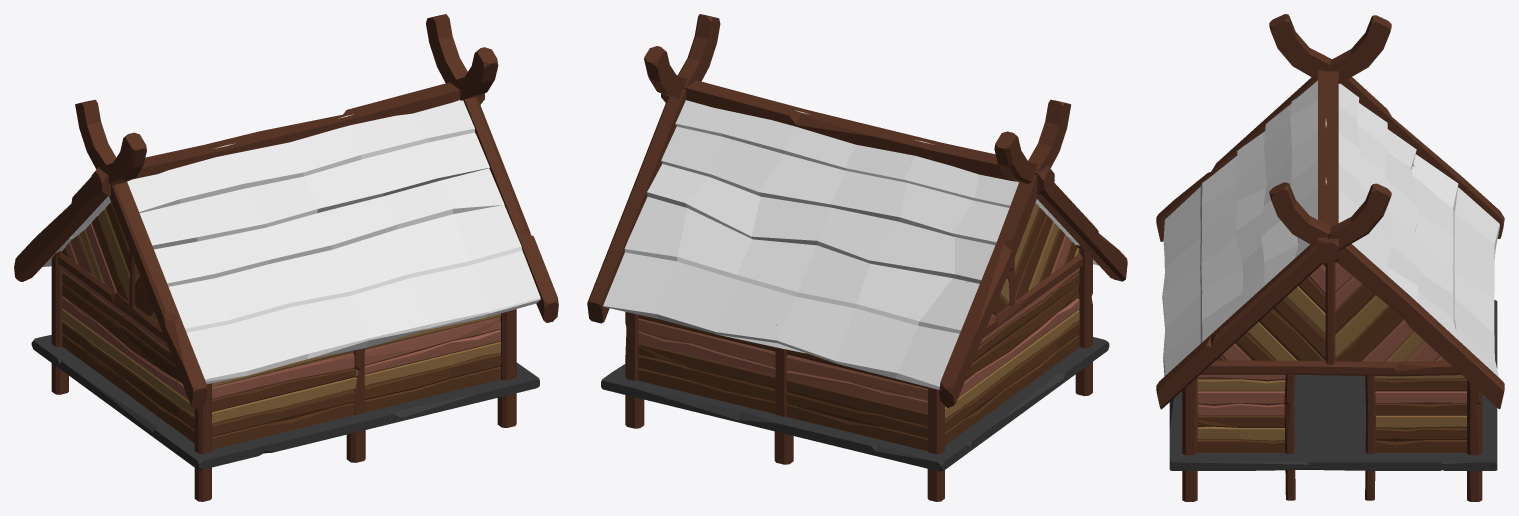
The model's file is Building_8.fbx.
3 views of the same model, side by side, from view 1: azimuth 30°, elevation 25°; view 2: azimuth 150°, elevation 25°; view 3: azimuth 270°, elevation 25° (orthographic). The views are drawn at different scales.
Parts seen in each view (by area): view 1: Building_8; view 2: Building_8; view 3: Building_8.
Part boxes in pixels (x1,y1,x2,y2): Building_8: [14, 14, 558, 501]; Building_8: [587, 14, 1127, 501]; Building_8: [1156, 14, 1504, 501].
Size of the model in its own units: 8.71 by 7.25 by 7.01.
